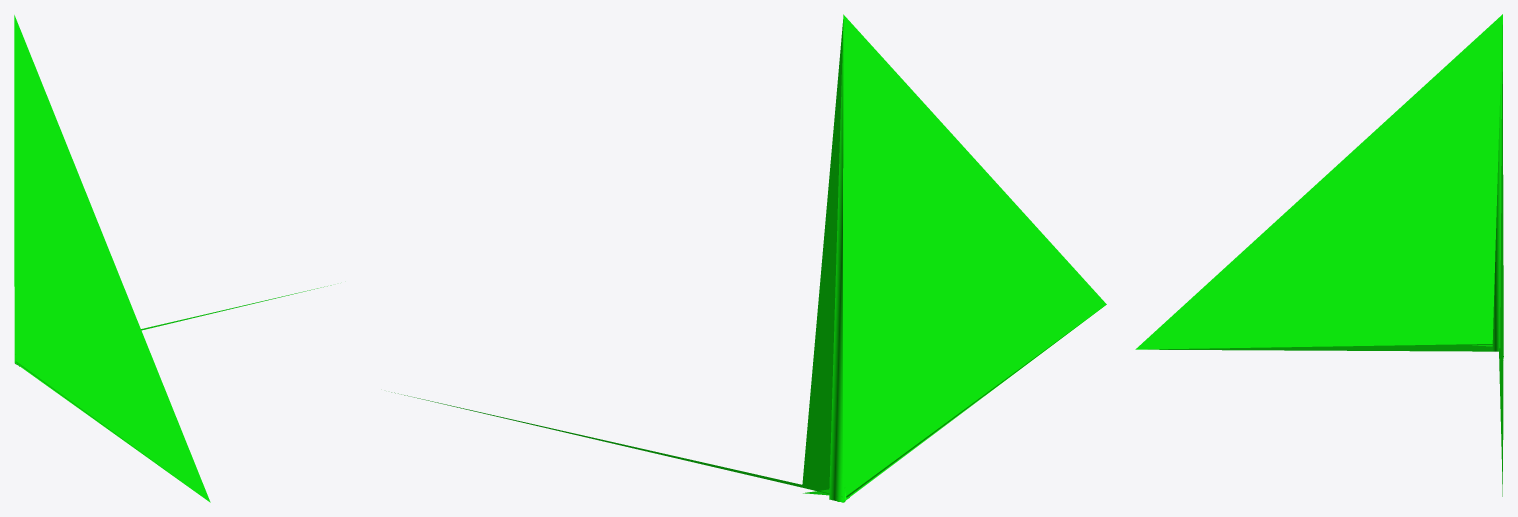
3 views of the same model, side by side, from view 1: azimuth 30°, elevation 25°; view 2: azimuth 150°, elevation 25°; view 3: azimuth 270°, elevation 25° (orthographic). The views are drawn at different scales.
Visible parts, largest first — view 1: object; view 2: object; view 3: object.
Boxes of the visible parts, bbox=[...] form: object: bbox=[14, 15, 331, 502]; object: bbox=[391, 14, 1106, 502]; object: bbox=[1135, 14, 1503, 496].
Bounding box in the file's own units: 877 × 877 × 877.
